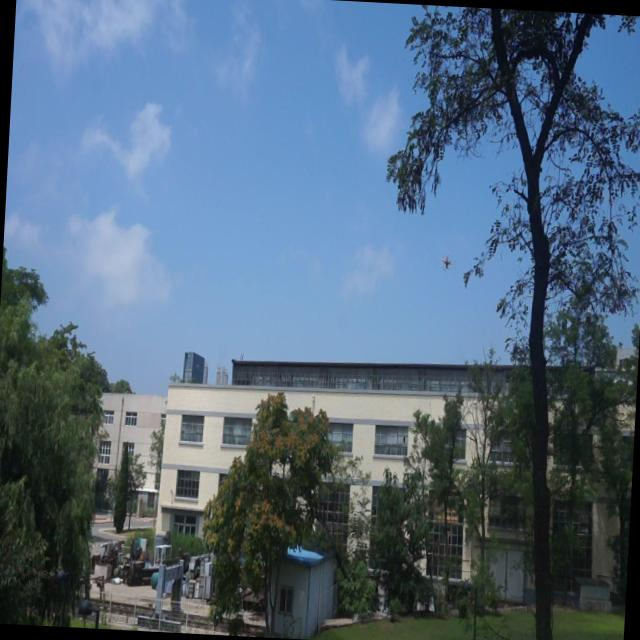drone: (438, 248, 456, 278)
